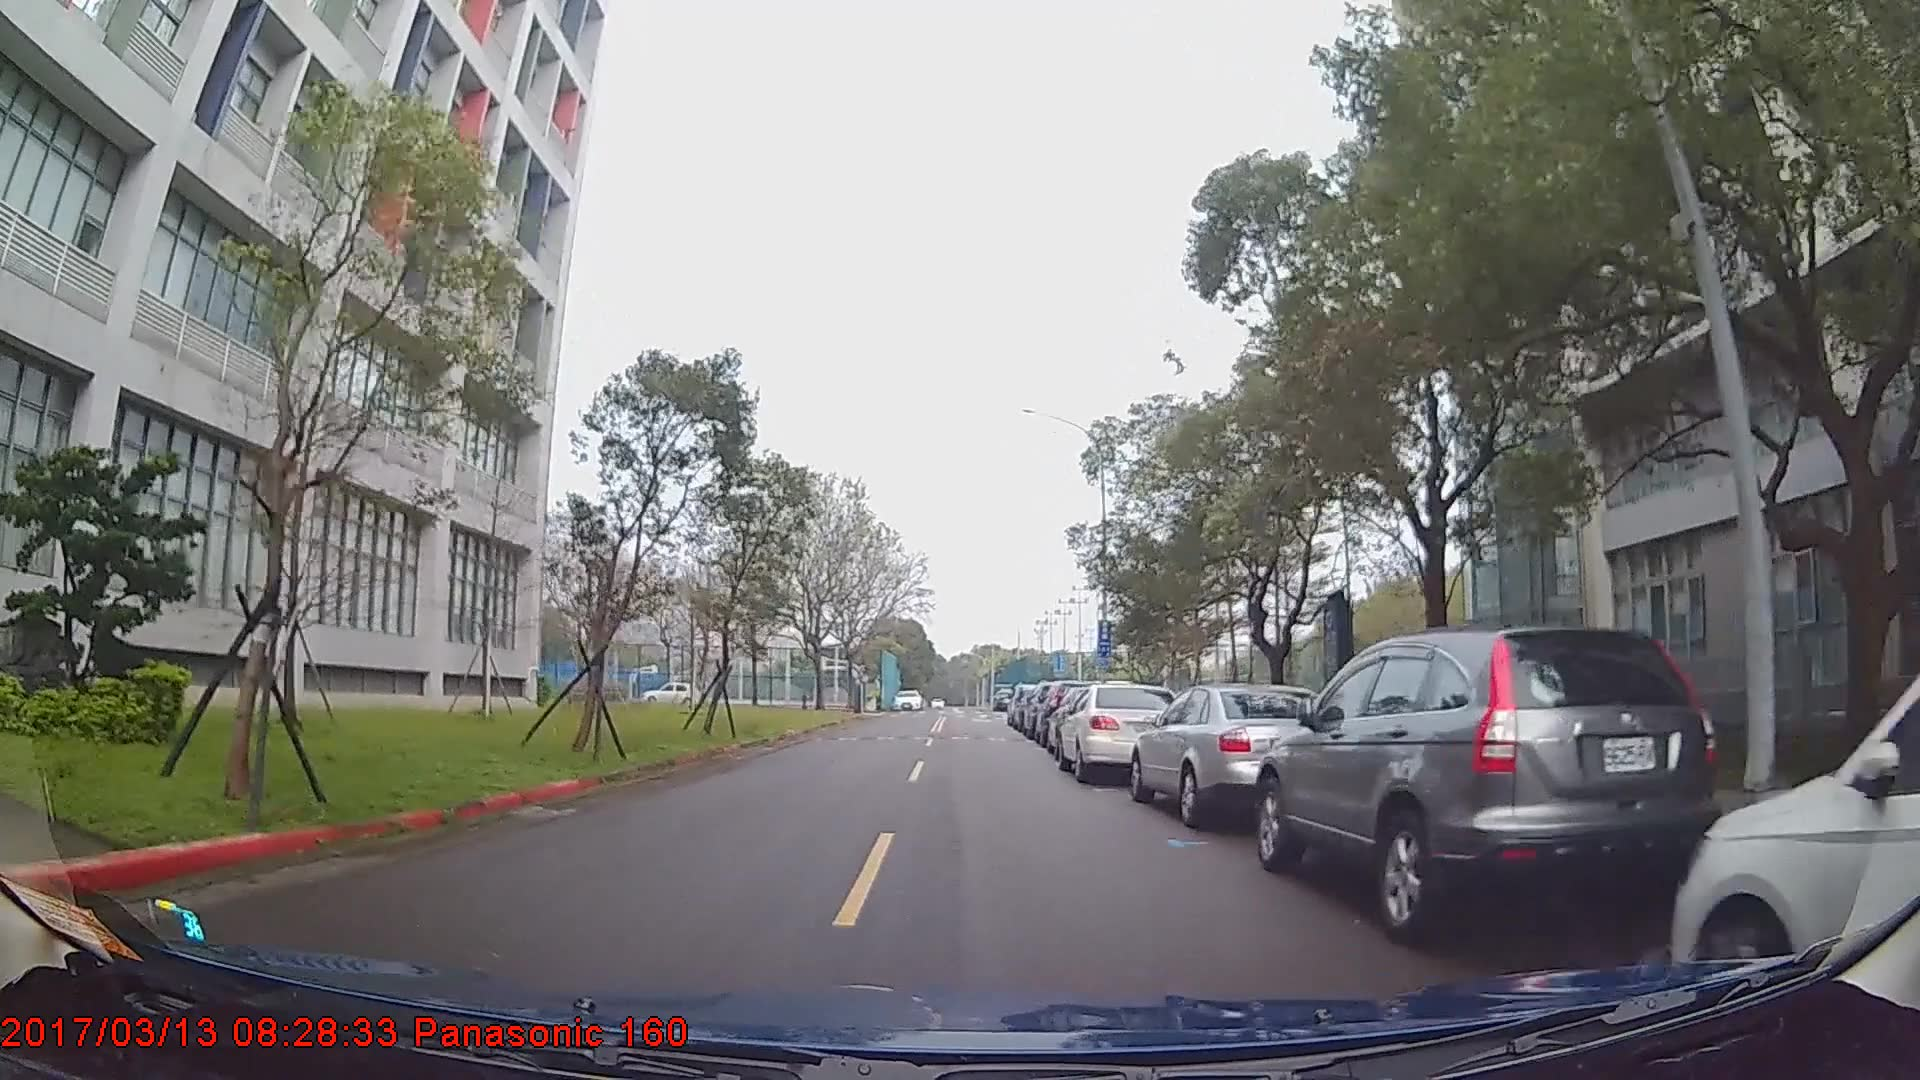vehicle: (1255, 624, 1721, 947), (1126, 680, 1335, 827), (1055, 679, 1187, 783), (641, 676, 698, 703)
